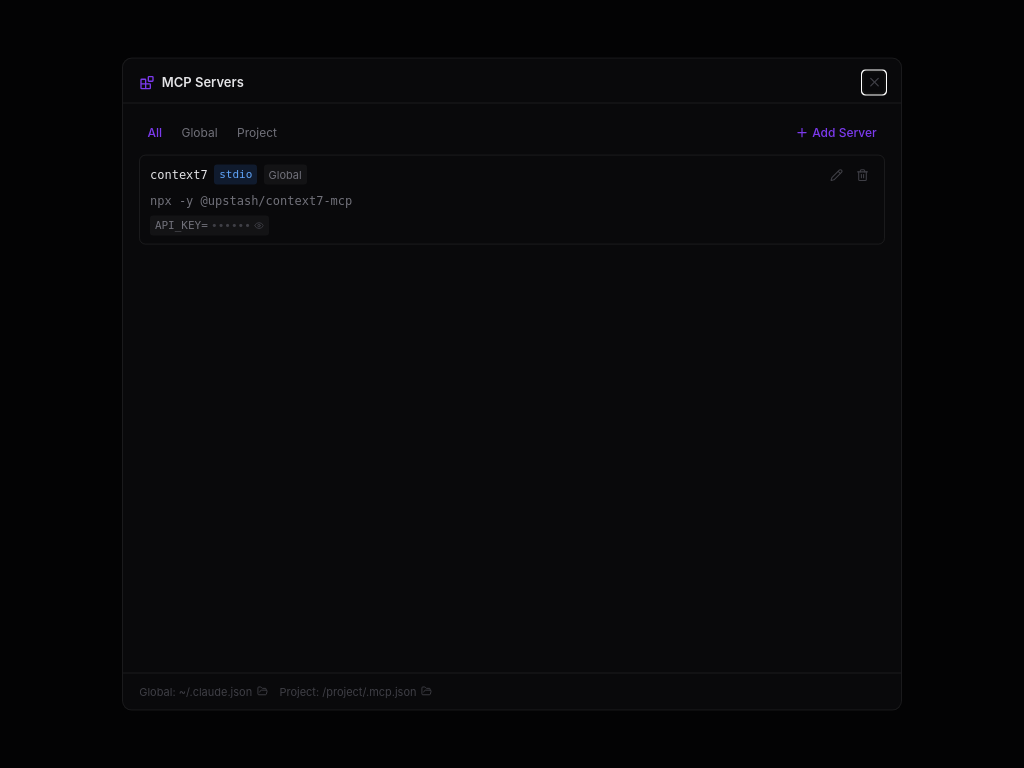
it: McpModal › shows inline delete confirmation when trash clicked
Expected: the text "context7" is shown, [150,166,208,184]
Click the button titled "Delete".
click(863, 175)  # box [851,164,874,186]
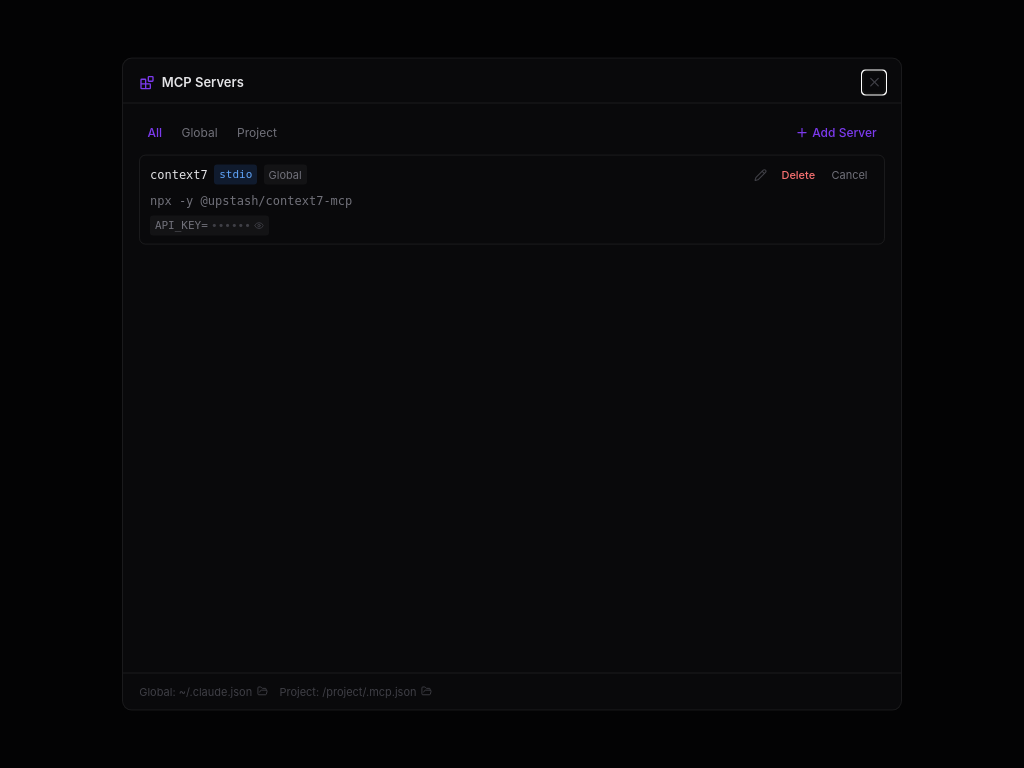
Expected: the button "Delete" is shown, [775,165,822,185]
Expected: the button "Cancel" is shown, [825,165,874,185]
